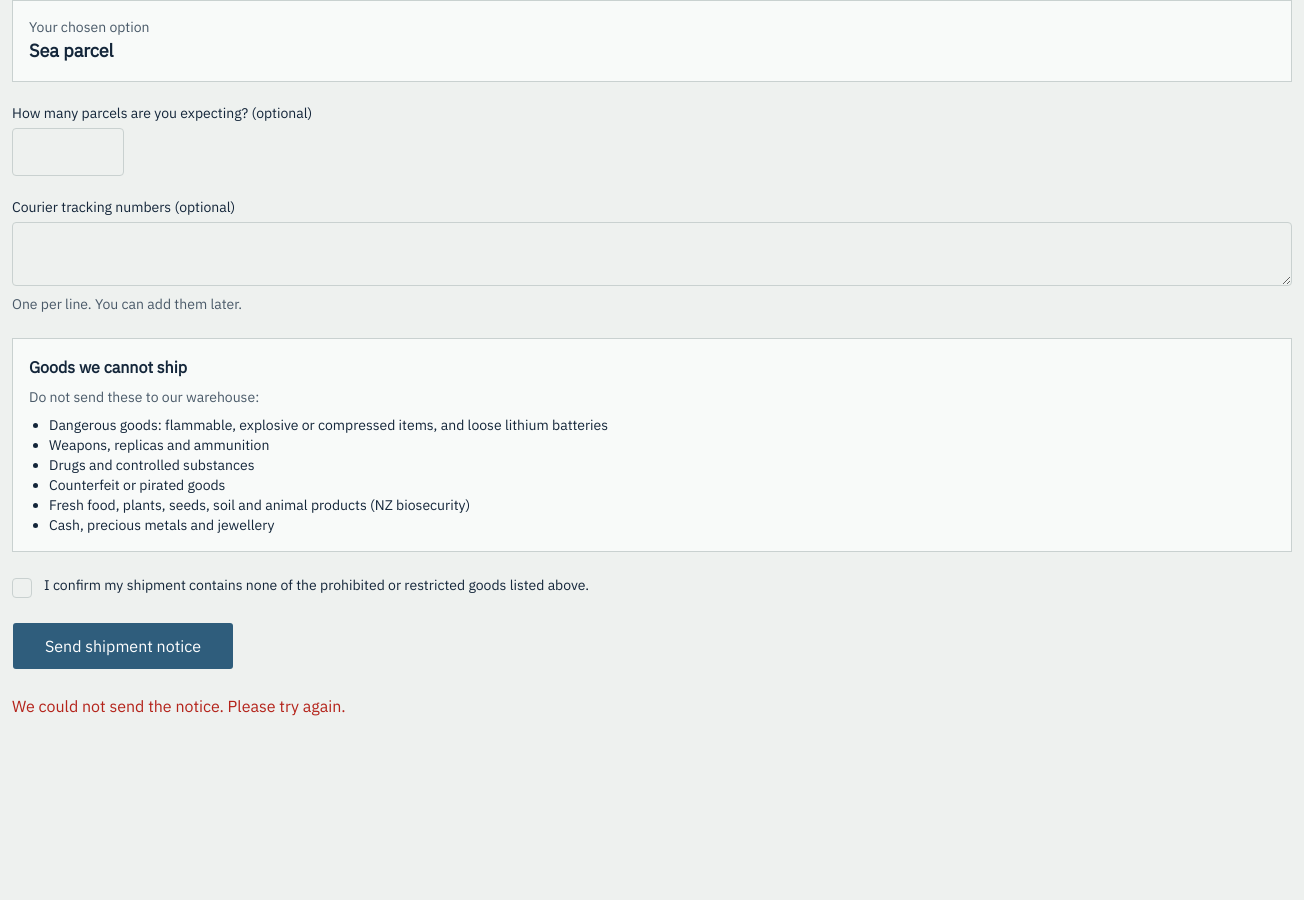
Test: PreNoticeForm › cannot be sent without the prohibited-goods acknowledgement
Expected: the text "Your chosen option" is shown, [29,17,150,37]
Click the button "Send shipment notice". click: (123, 646)
box: [12,622,234,670]
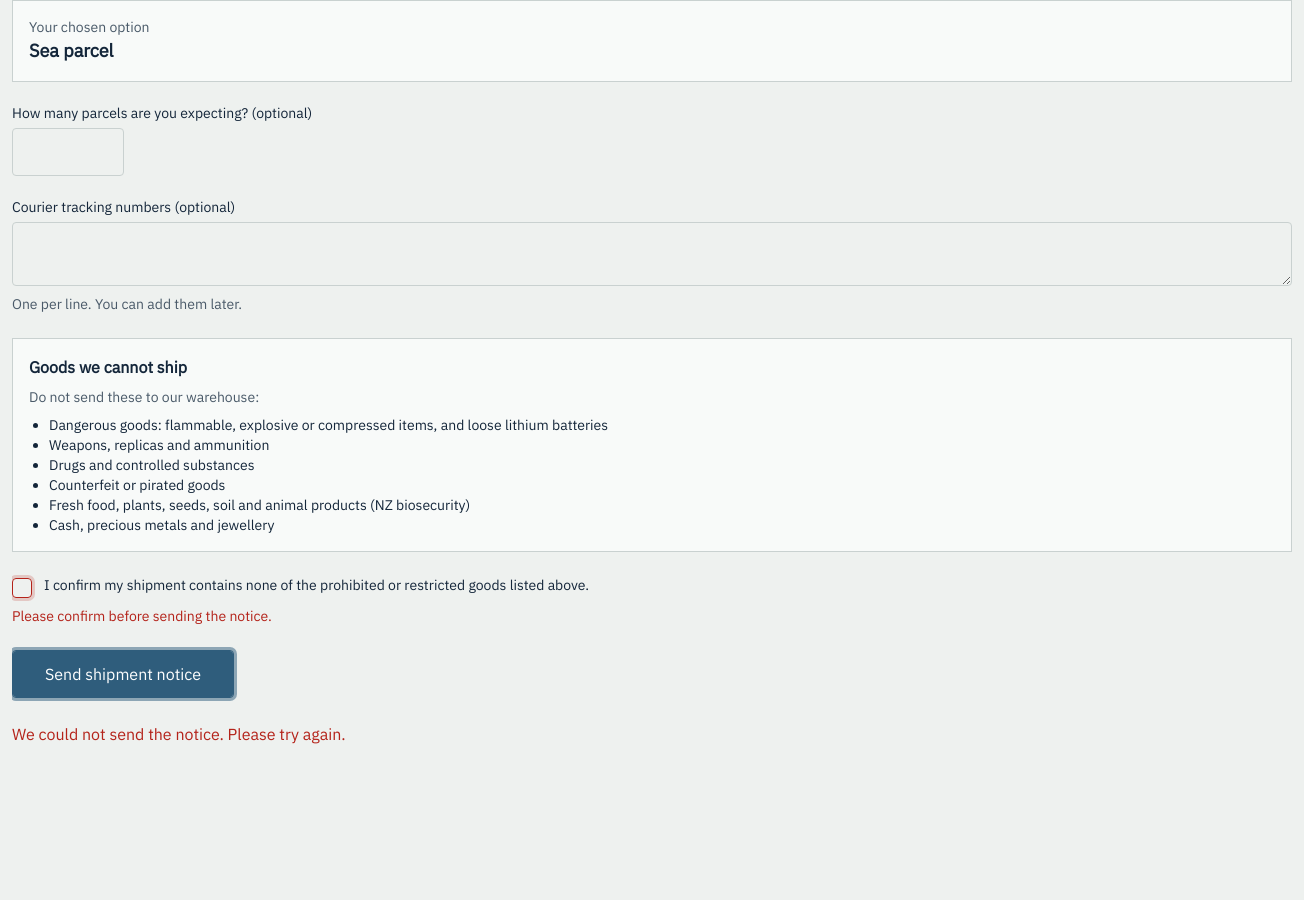
Result: the text "Please confirm before sending the notice." is shown at [12,607,272,625]
